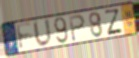8: (88, 11, 103, 39)
9: (53, 16, 70, 45)
F: (15, 22, 35, 52)
P: (68, 13, 86, 43)
U: (32, 17, 54, 48)
Z: (104, 8, 124, 37)
